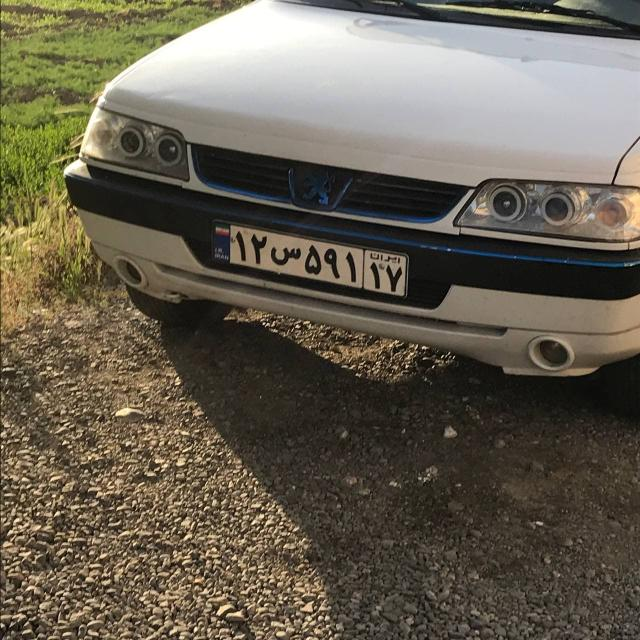Plates: (206, 222, 412, 296)
